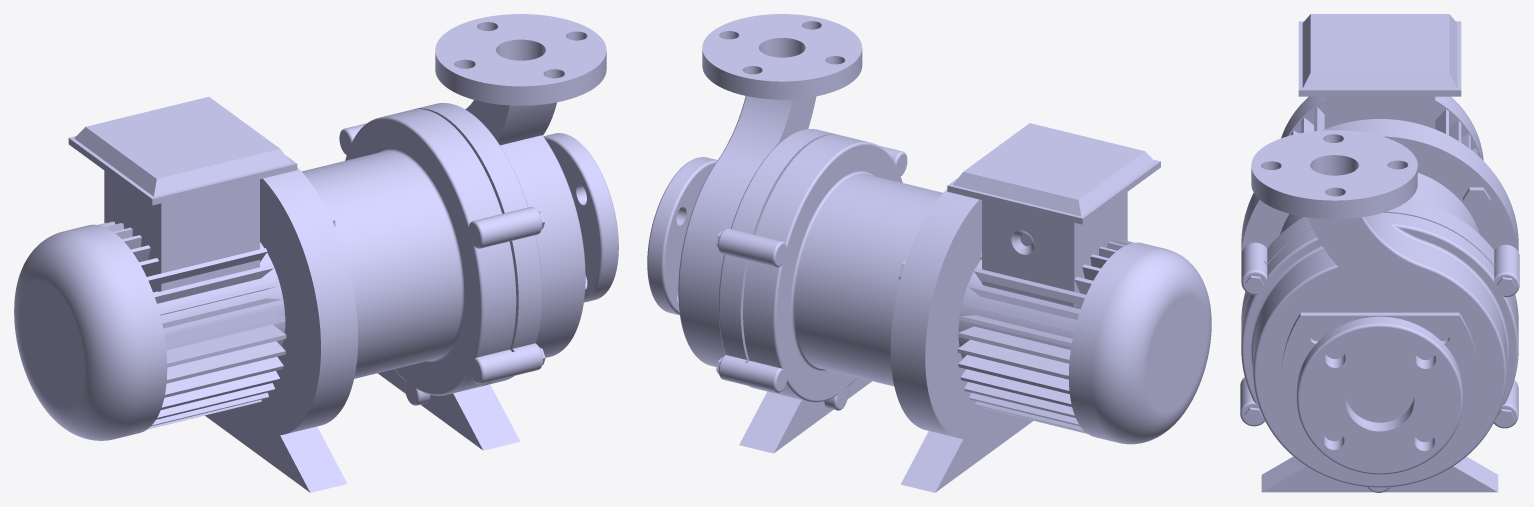
Rendered from 机械泵.FBX.
3 renders of one model, left to right at view 1: azimuth 30°, elevation 25°; view 2: azimuth 150°, elevation 25°; view 3: azimuth 270°, elevation 25°, orthographic. The views are drawn at different scales.
Visible parts, largest first — view 1: PartBody; view 2: PartBody; view 3: PartBody.
Boxes of the visible parts, x1,y1,x2,y2 form: PartBody: (14,14,618,492); PartBody: (647,14,1211,492); PartBody: (1240,14,1519,492).
Size of the model in its own units: 425 by 274 by 202.
